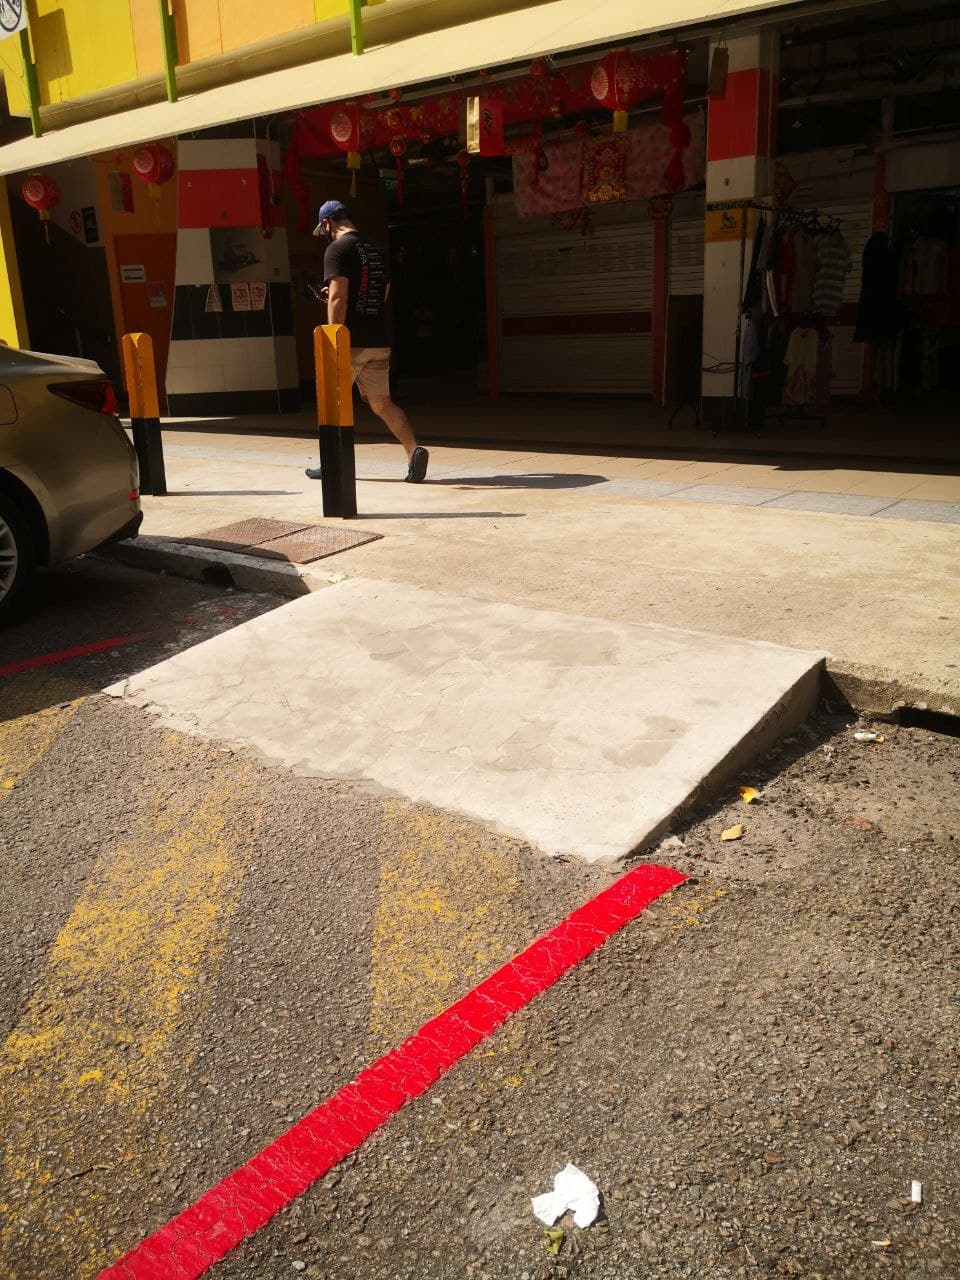slopes: (83, 581, 872, 872)
